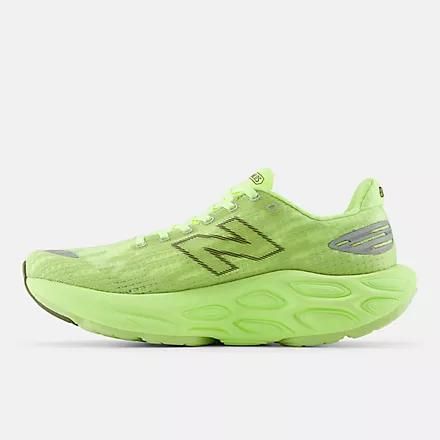NB logo: (161, 208, 296, 279)
